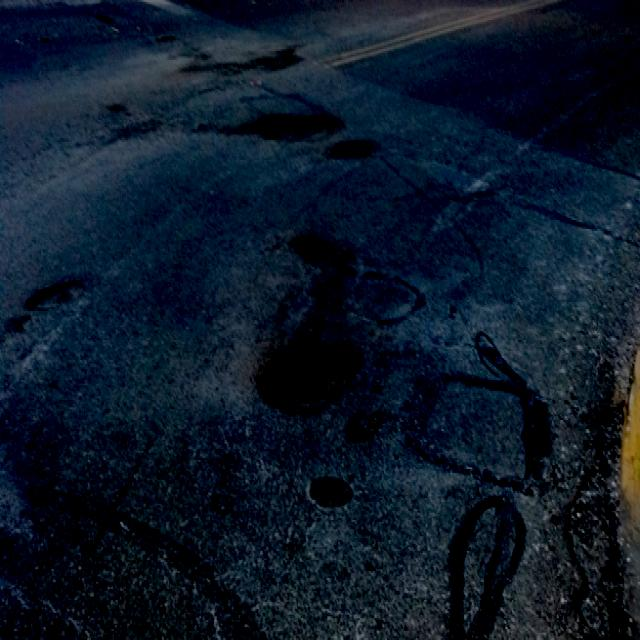Pothole: (255, 98, 376, 166), (279, 339, 352, 418)
